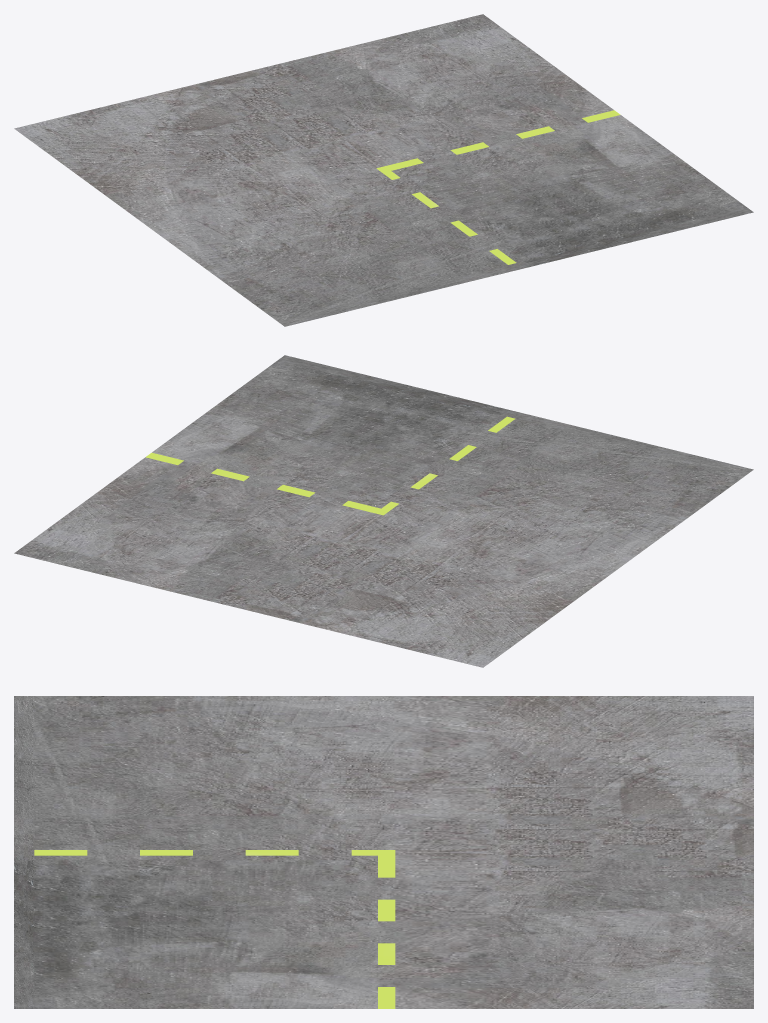
Rendered from Piso_026.fbx.
The picture shows the model from 3 angles, top to bottom: view 1: azimuth 30°, elevation 25°; view 2: azimuth 150°, elevation 25°; view 3: azimuth 270°, elevation 25°; orthographic projection. The views are drawn at different scales.
Visible parts, largest first — view 1: Plane.011; view 2: Plane.011; view 3: Plane.011.
Boxes of the visible parts, x1,y1,x2,y2 form: Plane.011: (14,14,753,326); Plane.011: (14,355,753,667); Plane.011: (14,696,753,1008).
Bounding box in the file's own units: 600 × 0.000188 × 600.
